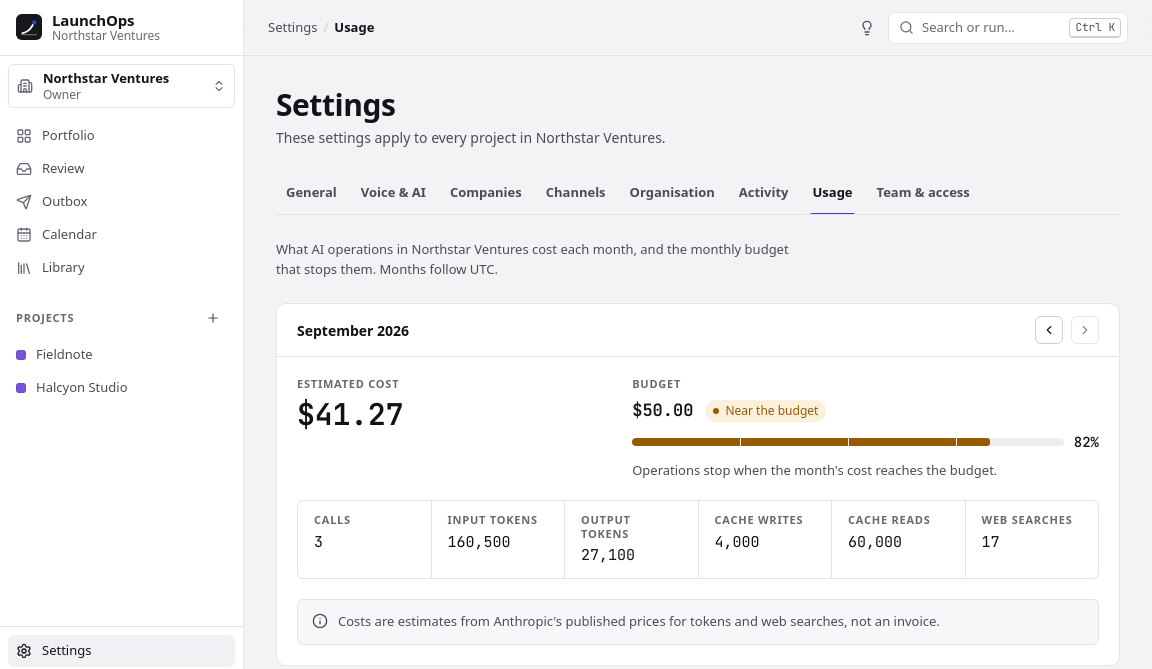
it: Usage › moves between months, but never past this one
Expected: the button named "Next month" is disabled, [1071,316,1099,344]
Click the button named "Previous month": (1049, 330) [1035,316,1063,344]
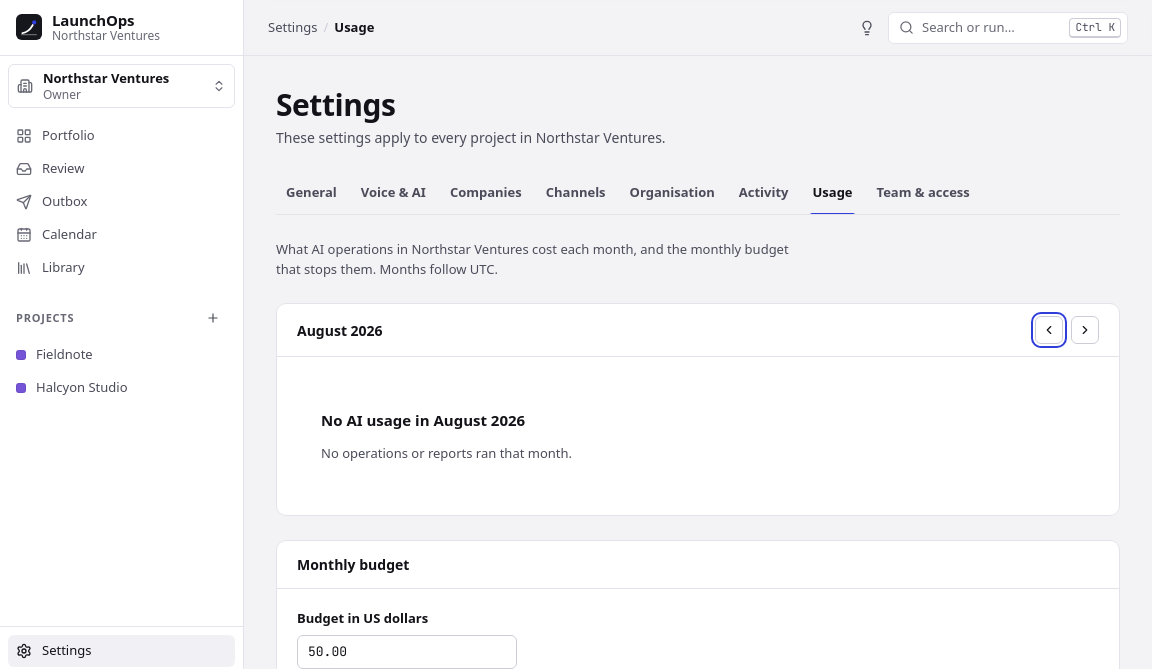
Click the button named "Next month": (1085, 330) [1071,316,1099,344]
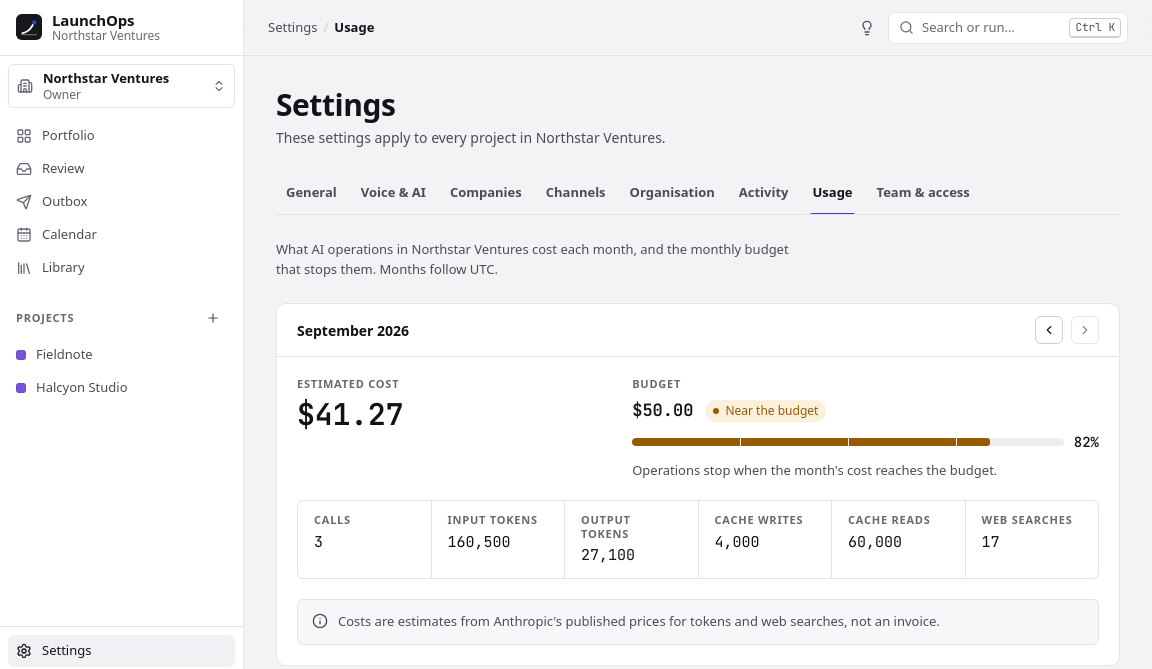
Expected: the text "$41.27" is shown, [297,394,403,434]
